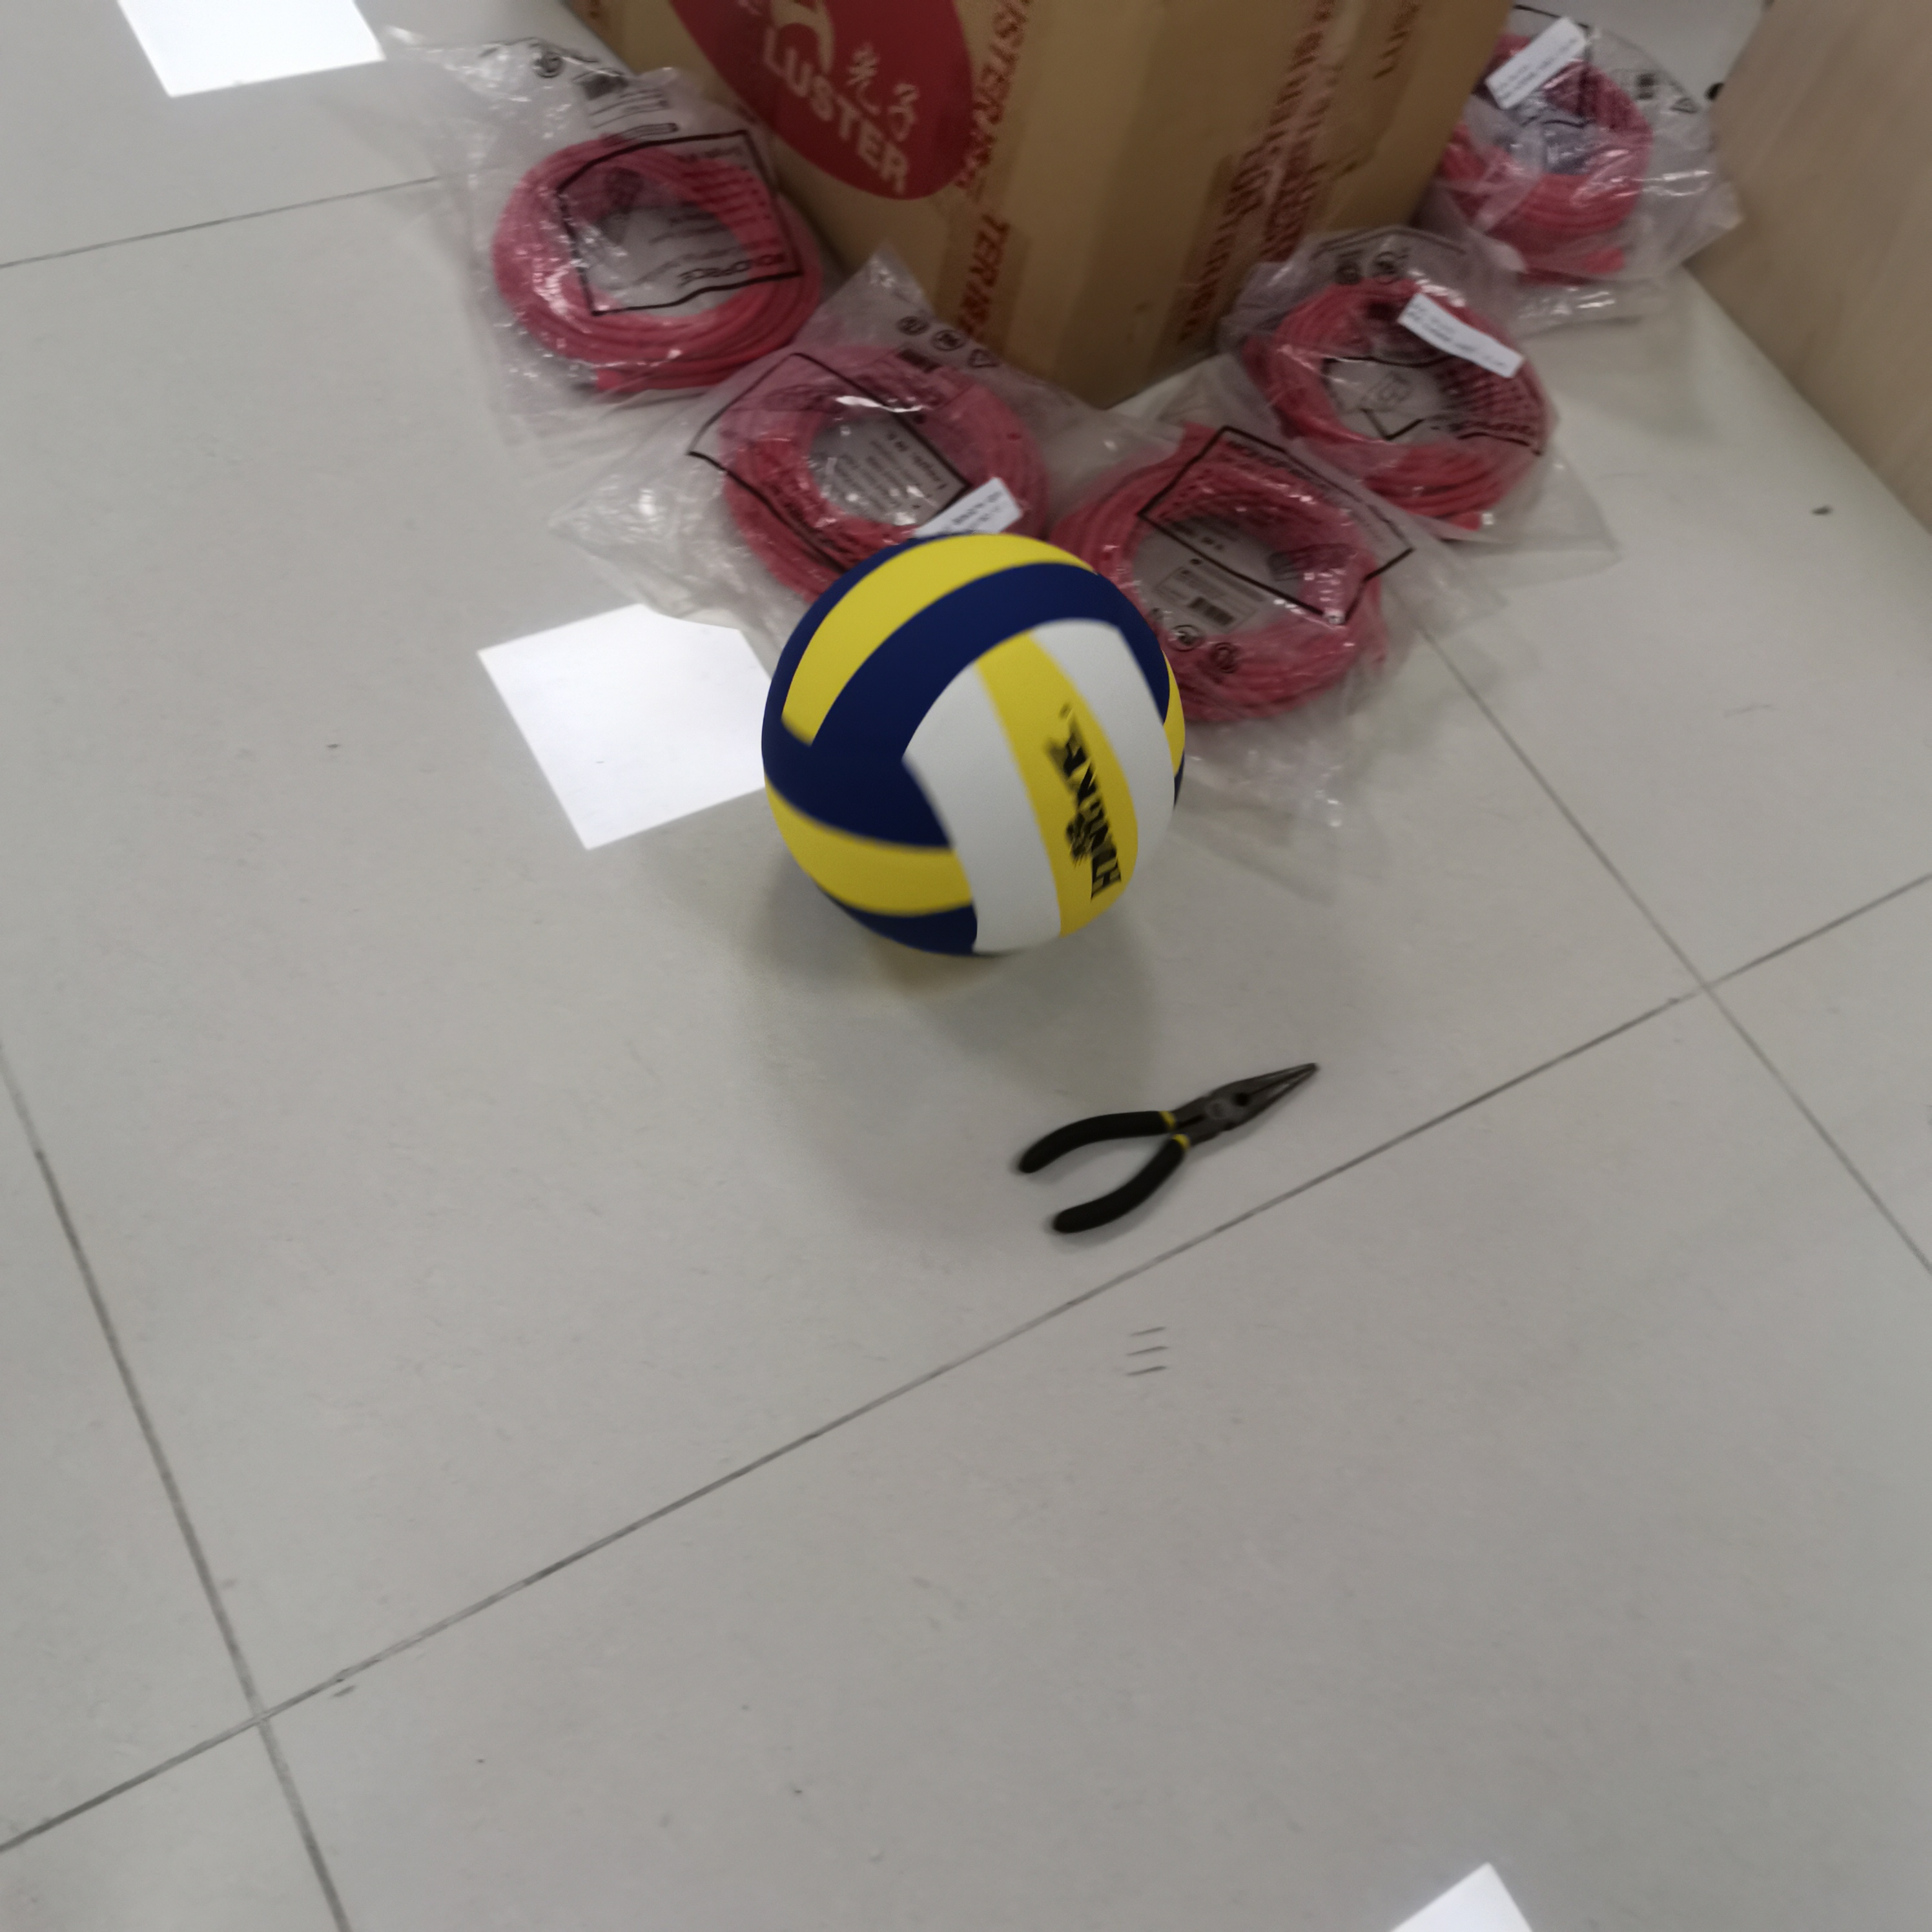volleyball: (761, 529, 1185, 959)
